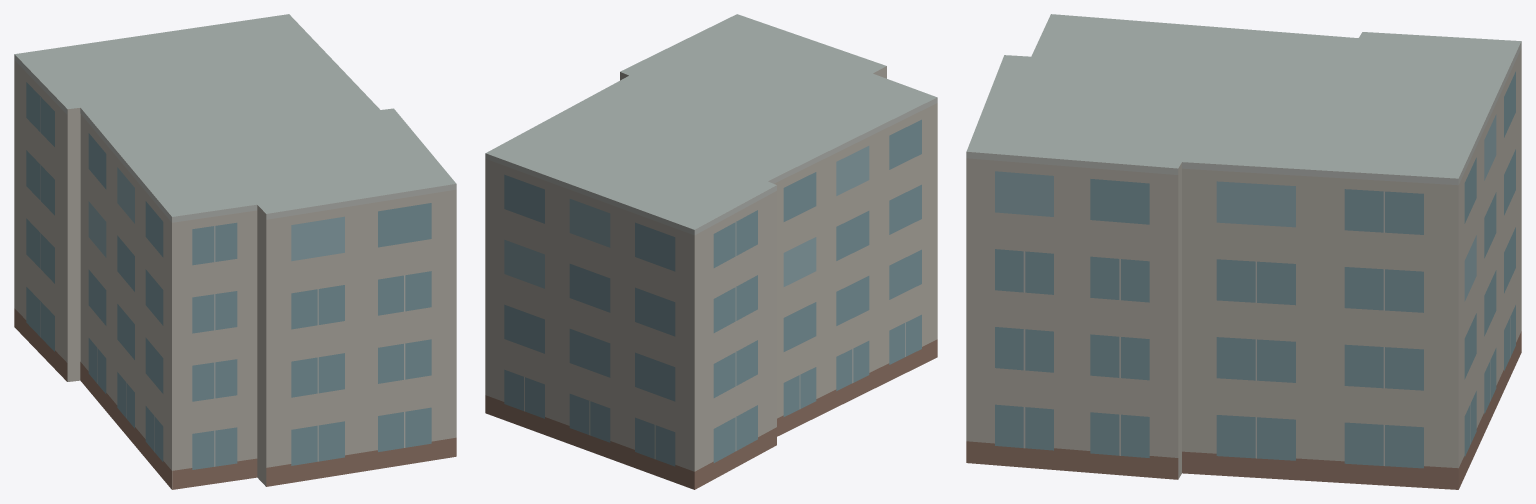
Rendered from survey-upis-32678753.glb.
3 renders of one model, left to right at view 1: azimuth 30°, elevation 25°; view 2: azimuth 150°, elevation 25°; view 3: azimuth 270°, elevation 25°, orthographic. The views are drawn at different scales.
Parts seen in each view (by area): view 1: survey-upis-32678753.tmp; view 2: survey-upis-32678753.tmp; view 3: survey-upis-32678753.tmp.
Boxes of the visible parts, bbox=[...] form: survey-upis-32678753.tmp: bbox=[14, 14, 456, 489]; survey-upis-32678753.tmp: bbox=[485, 14, 937, 489]; survey-upis-32678753.tmp: bbox=[966, 14, 1521, 489].
Size of the model in its own units: 13.05 by 11.5 by 18.6.
